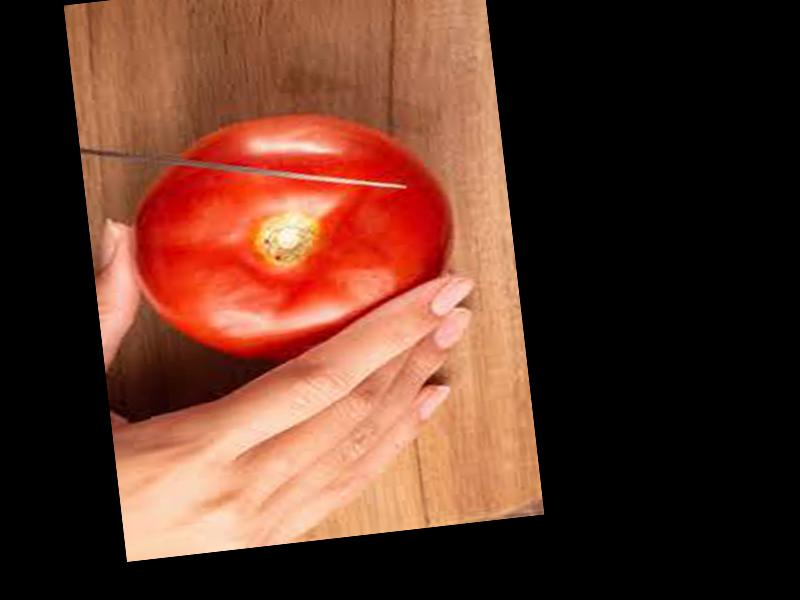Tomato: (123, 103, 463, 376)
